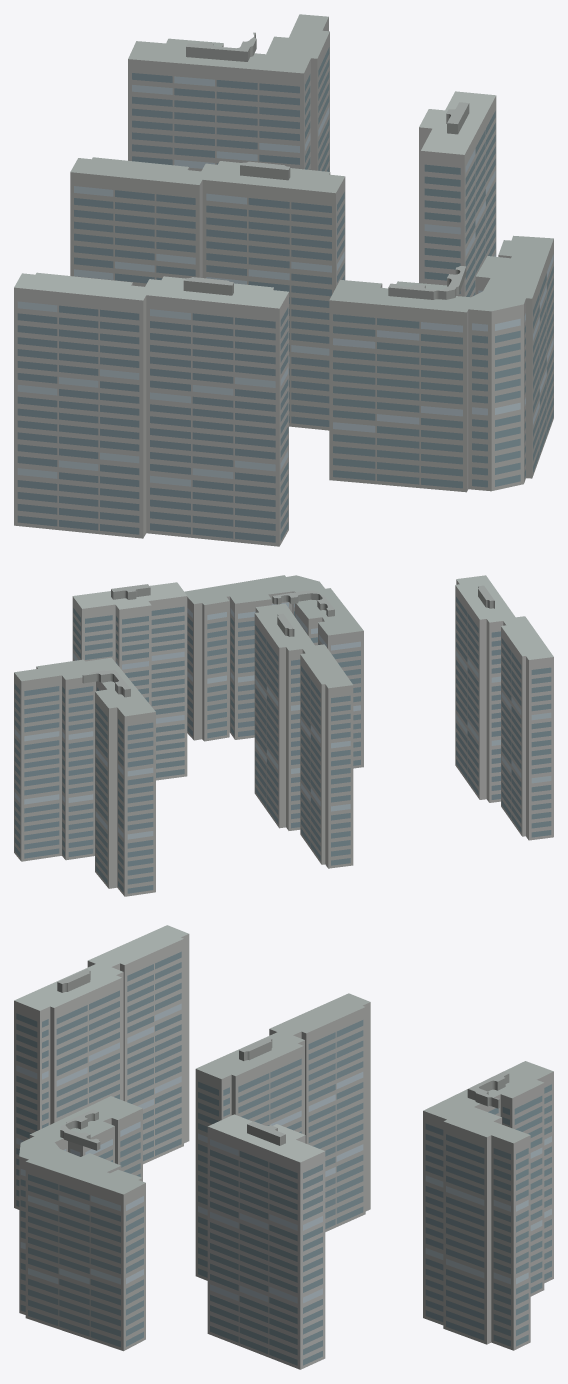
Rendered from apt-a10024849.glb.
3 renders of one model, top to bottom at view 1: azimuth 30°, elevation 25°; view 2: azimuth 150°, elevation 25°; view 3: azimuth 270°, elevation 25°, orthographic. The views are drawn at different scales.
Parts seen in each view (by area): view 1: apt-a10024849; view 2: apt-a10024849; view 3: apt-a10024849.
Boxes of the visible parts, box(x1,y1,x2,y2) form: apt-a10024849: box(14, 14, 553, 546); apt-a10024849: box(14, 575, 553, 896); apt-a10024849: box(14, 925, 553, 1369).
Bounding box in the file's own units: 137 × 58 × 131.
